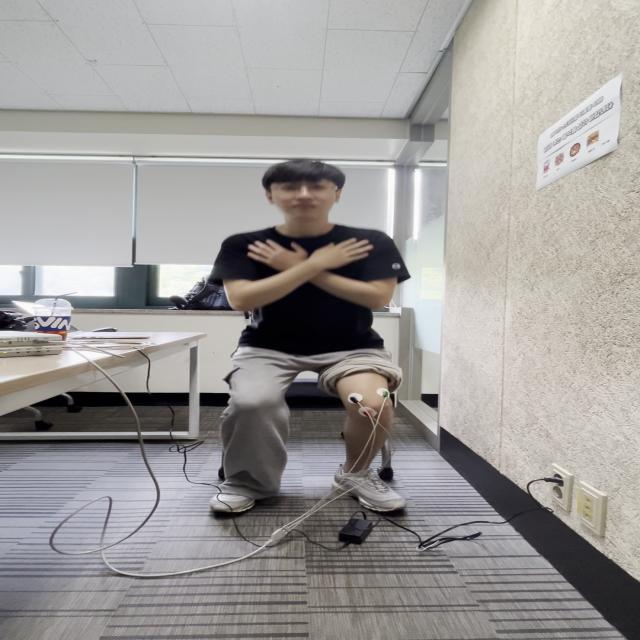stand: (210, 232, 409, 429), (232, 326, 391, 428), (333, 388, 408, 515), (224, 386, 282, 507)
